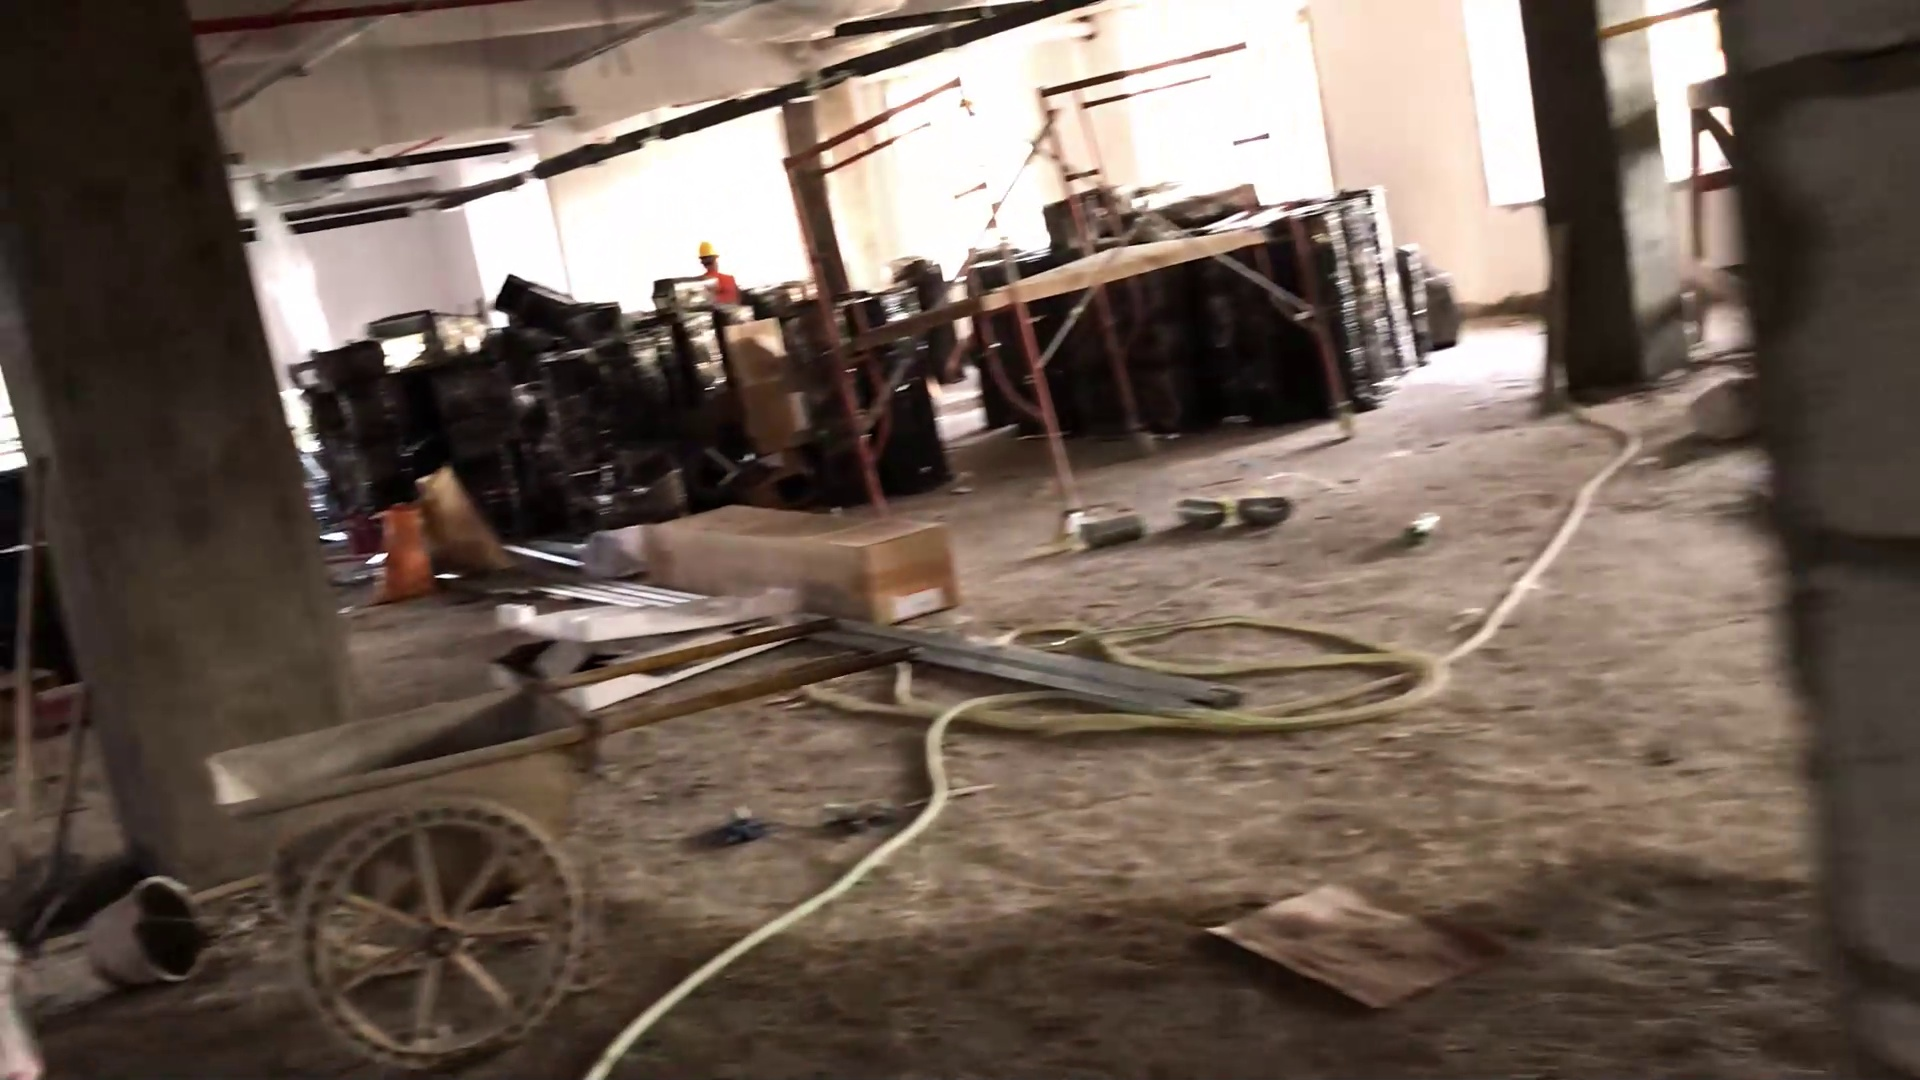helmet: (694, 241, 721, 262)
person: (676, 241, 753, 313)
vest: (697, 271, 742, 307)
